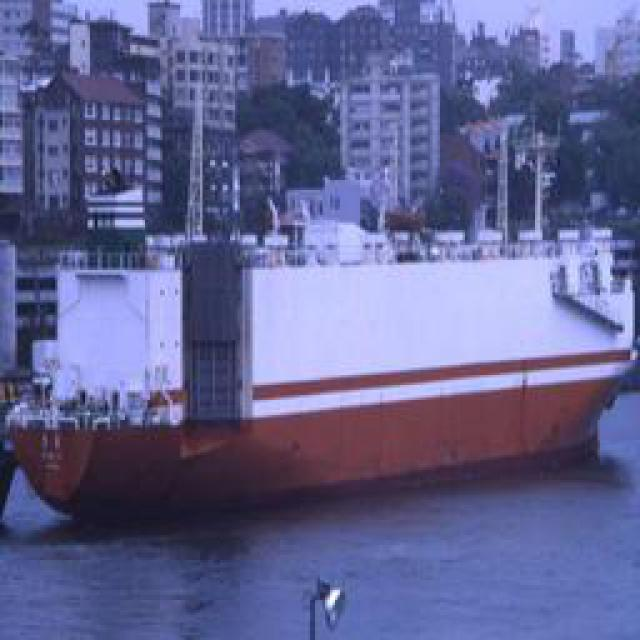Ship: (10, 40, 638, 525)
